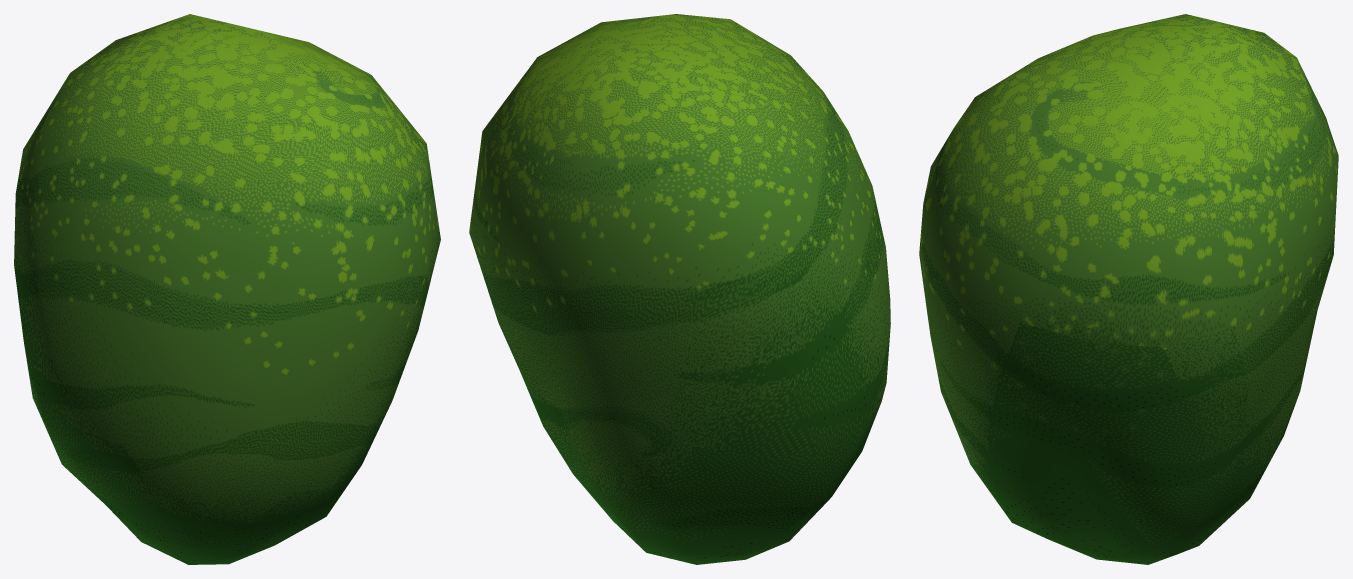
File: shrub-round-1b.fbx
3 views of the same model, side by side, from view 1: azimuth 30°, elevation 25°; view 2: azimuth 150°, elevation 25°; view 3: azimuth 270°, elevation 25° (orthographic). The views are drawn at different scales.
Visible parts, largest first — view 1: Icosphere; view 2: Icosphere; view 3: Icosphere.
Boxes of the visible parts, left/top/right/bottom form: Icosphere: left=14, top=14, right=440, bottom=564; Icosphere: left=469, top=14, right=890, bottom=564; Icosphere: left=919, top=14, right=1338, bottom=564.
Bounding box in the file's own units: 237 × 311 × 223.
Materials: 1 (1 with a texture image).
